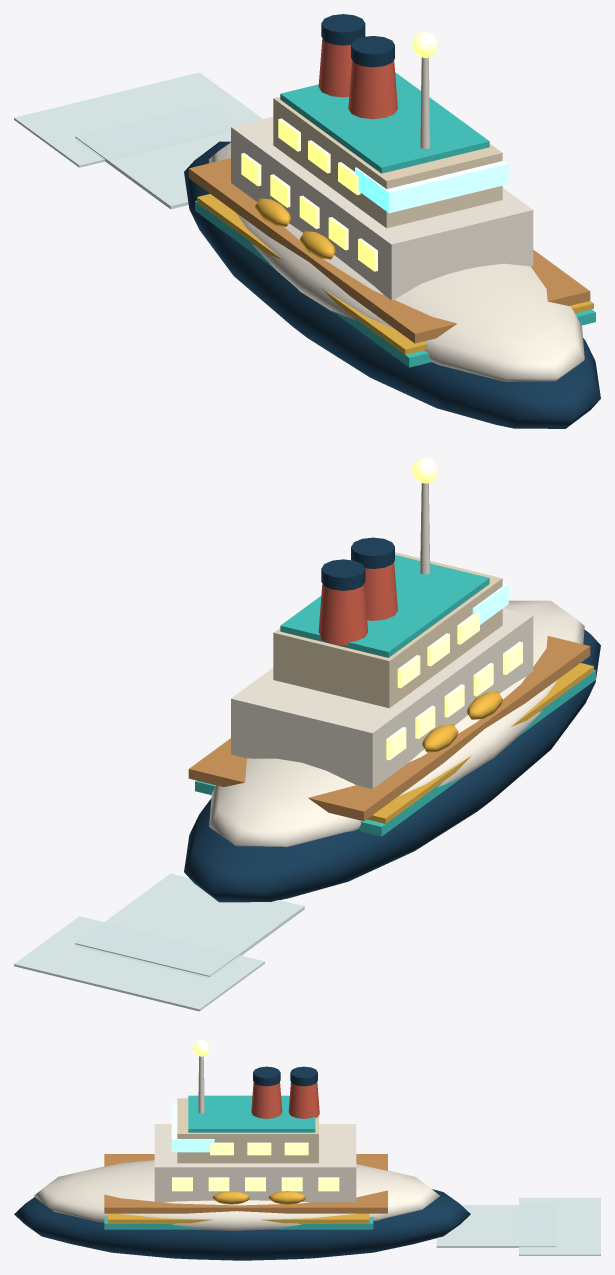
File: tourist-ship.glb
3 views of the same model, one above another, from view 1: azimuth 30°, elevation 25°; view 2: azimuth 150°, elevation 25°; view 3: azimuth 270°, elevation 25° (orthographic). The views are drawn at different scales.
Visible parts, largest first — view 1: Mesh_warmWhite, Mesh_navy, Mesh_waterFoam, Mesh_turquoise, Mesh_lightWood, Mesh_cream, Mesh_glowWarm, Mesh_coral, Mesh_glowCyan, Mesh_gold, Mesh_mango; view 2: Mesh_warmWhite, Mesh_navy, Mesh_waterFoam, Mesh_cream, Mesh_turquoise, Mesh_lightWood, Mesh_glowWarm, Mesh_coral, Mesh_gold, Mesh_mango, Mesh_glowCyan; view 3: Mesh_warmWhite, Mesh_navy, Mesh_waterFoam, Mesh_turquoise, Mesh_lightWood, Mesh_cream, Mesh_glowWarm, Mesh_coral, Mesh_gold, Mesh_glowCyan, Mesh_mango.
Boxes of the visible parts, x1,y1,x2,y2 form: Mesh_warmWhite: (209,57,584,381); Mesh_navy: (184,14,600,428); Mesh_waterFoam: (14,72,262,209); Mesh_turquoise: (195,72,595,367); Mesh_lightWood: (188,158,590,343); Mesh_cream: (273,97,502,228); Mesh_glowWarm: (241,32,438,271); Mesh_coral: (318,38,397,119); Mesh_glowCyan: (355,159,508,213); Mesh_gold: (197,194,593,354); Mesh_mango: (255,198,335,259); Mesh_warmWhite: (209,483,584,846); Mesh_navy: (184,537,600,902); Mesh_waterFoam: (14,873,304,1011); Mesh_cream: (273,552,502,708); Mesh_turquoise: (195,555,595,836); Mesh_lightWood: (188,636,590,821); Mesh_glowWarm: (386,457,522,760); Mesh_coral: (318,561,397,645); Mesh_gold: (367,663,593,823); Mesh_mango: (422,691,503,752); Mesh_glowCyan: (472,582,508,624); Mesh_warmWhite: (34,1056,439,1230); Mesh_navy: (14,1066,470,1260); Mesh_waterFoam: (436,1197,600,1255); Mesh_turquoise: (104,1095,373,1229); Mesh_lightWood: (104,1154,387,1213); Mesh_cream: (177,1098,318,1163); Mesh_glowWarm: (172,1040,339,1191); Mesh_coral: (251,1082,319,1118); Mesh_gold: (108,1213,369,1223); Mesh_glowCyan: (171,1103,214,1152); Mesh_mango: (212,1191,305,1204).
Bounding box in the file's own units: 4.08 × 6.13 × 15.72.
